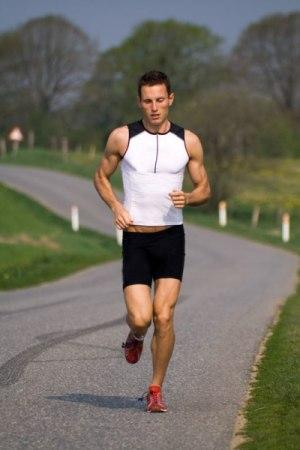person: (95, 67, 212, 414)
